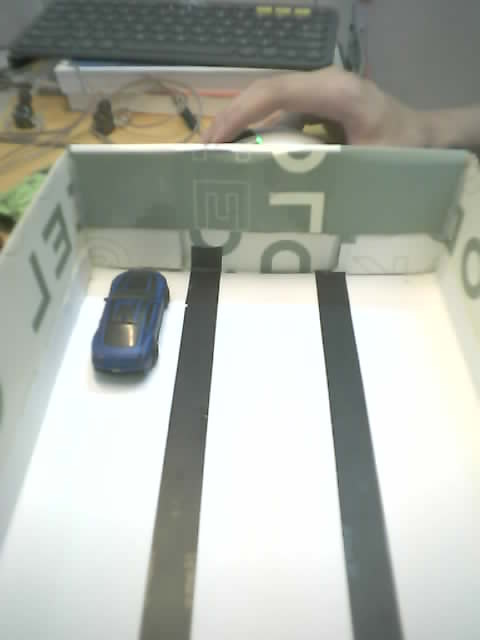vehicle: (87, 270, 170, 390)
